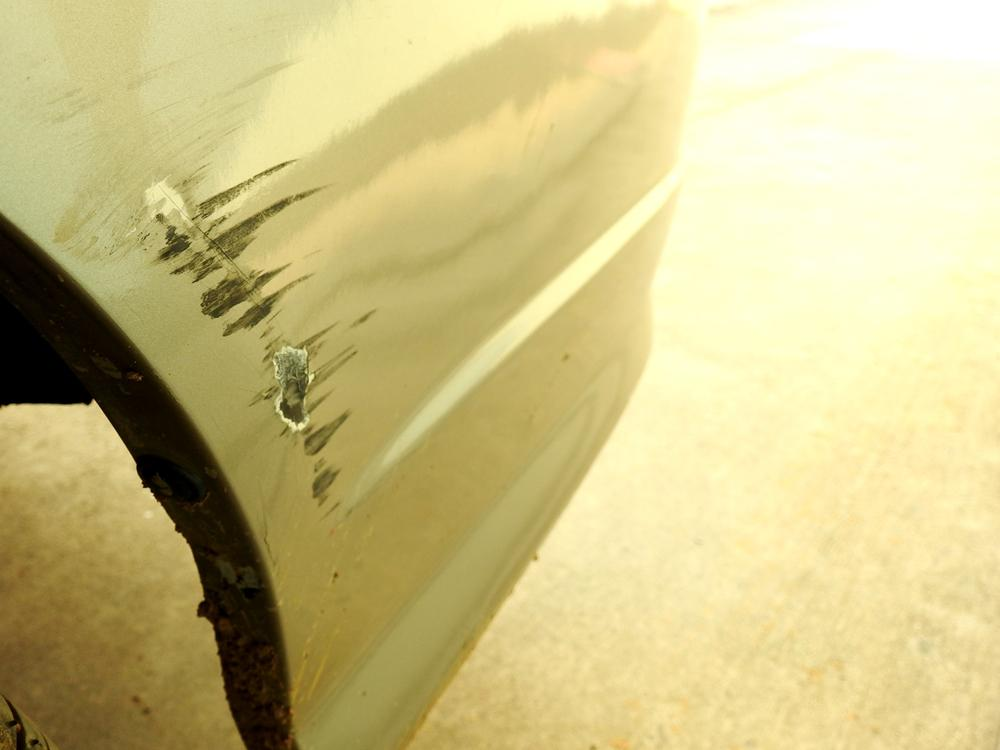scratch: (44, 65, 375, 543)
